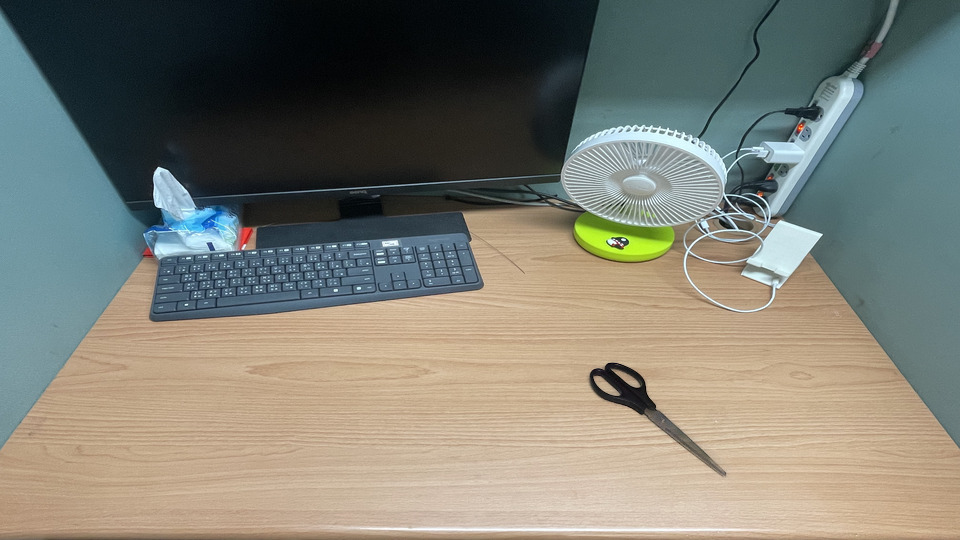blade: (257, 394, 348, 408)
round_grasp: (346, 383, 427, 431)
